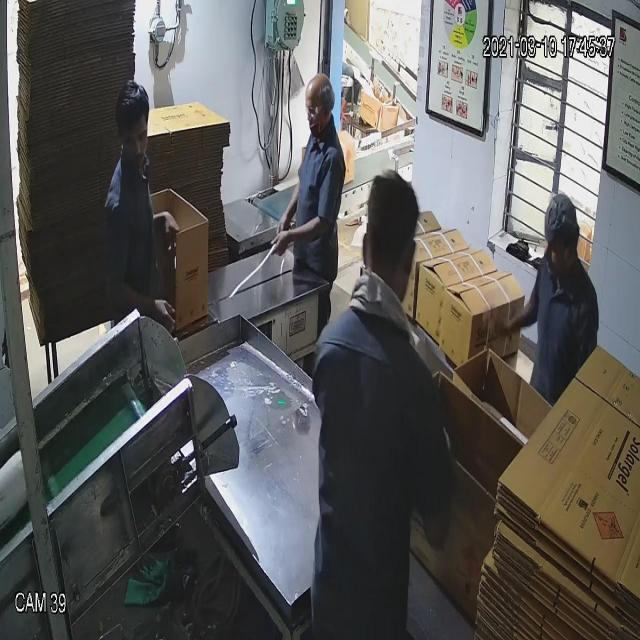No_Gloves: (30, 60, 511, 314)
